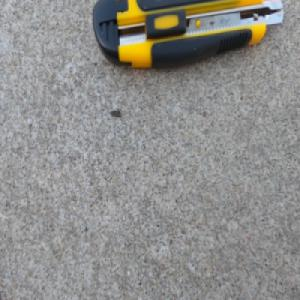Cutter: (91, 0, 283, 72)
